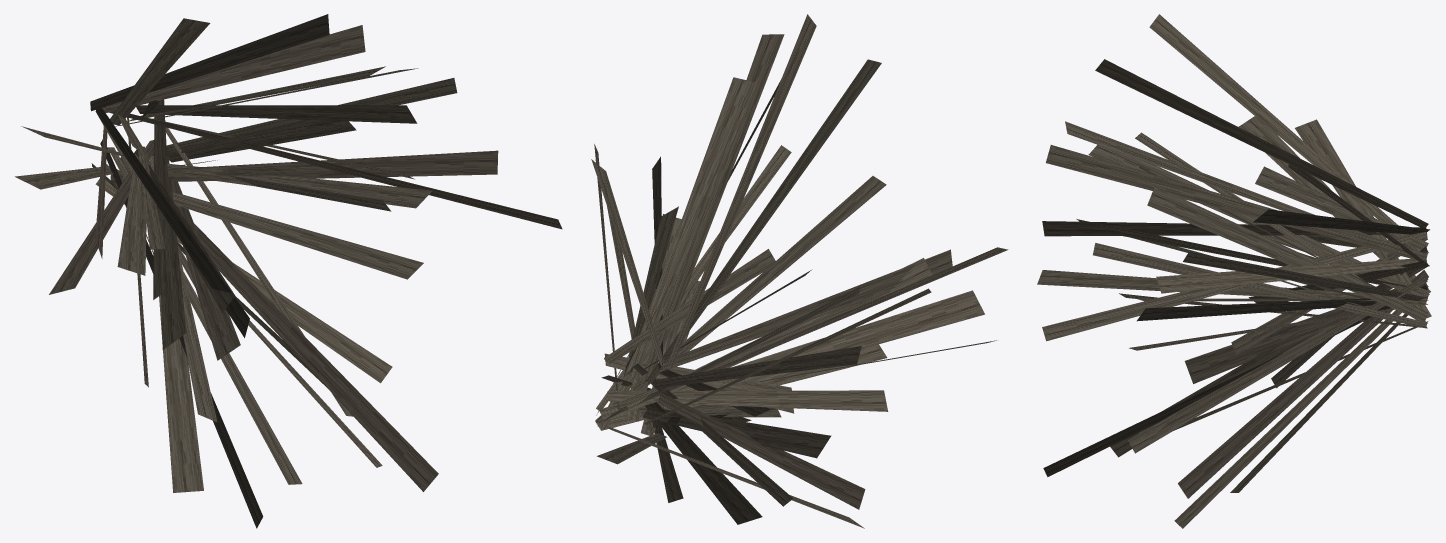
Rendered from PZ_ALP_LOD1_14_Dry_Grass.glb.
3 renders of one model, left to right at view 1: azimuth 30°, elevation 25°; view 2: azimuth 150°, elevation 25°; view 3: azimuth 270°, elevation 25°, orthographic. The views are drawn at different scales.
Visible parts, largest first — view 1: DryGrassBlades_AlphaMasked; view 2: DryGrassBlades_AlphaMasked; view 3: DryGrassBlades_AlphaMasked.
Part boxes in pixels (x1=…): DryGrassBlades_AlphaMasked: x1=15, y1=14, x2=562, y2=528; DryGrassBlades_AlphaMasked: x1=591, y1=14, x2=1008, y2=528; DryGrassBlades_AlphaMasked: x1=1037, y1=14, x2=1431, y2=528.
Size of the model in its own units: 0.5896 by 0.683 by 0.5683.
Materials: 1 (1 with a texture image).
